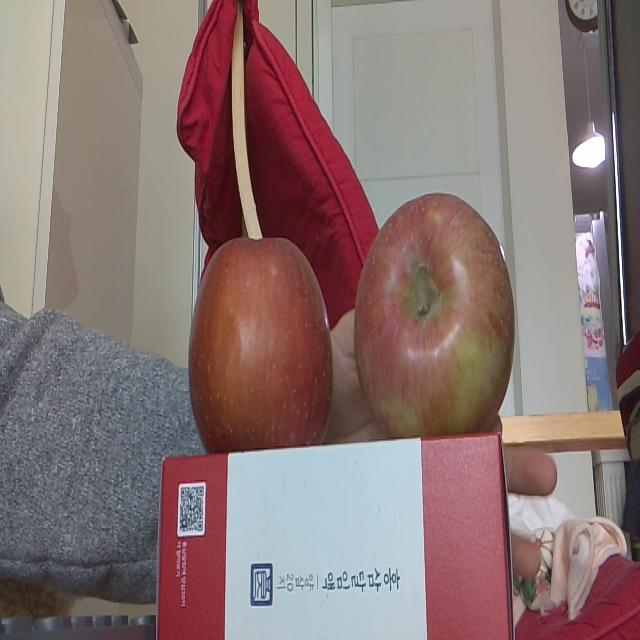apple: (352, 192, 514, 440), (188, 235, 332, 452)
